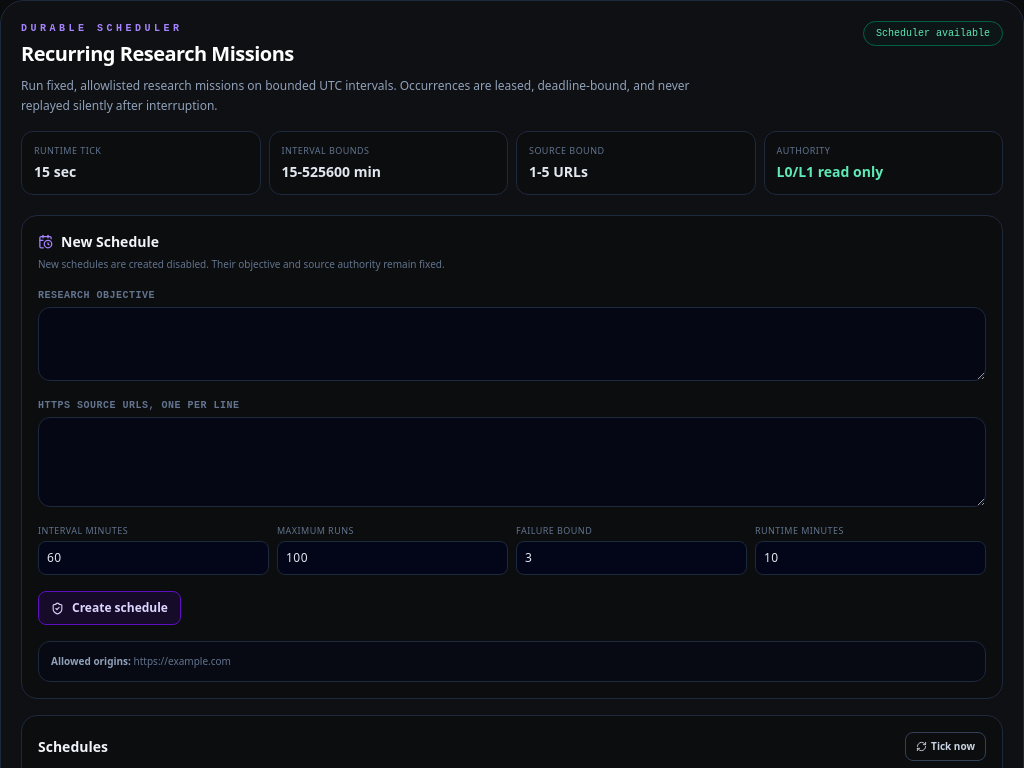
it: RecurringResearchPanel › renders server-backed empty state, validates source authority, and stores nothing locally
Type "Track evidence" into the text box named "Scheduled research objective" at coordinates (512, 344), box x1=38 y1=307 x2=986 y2=381
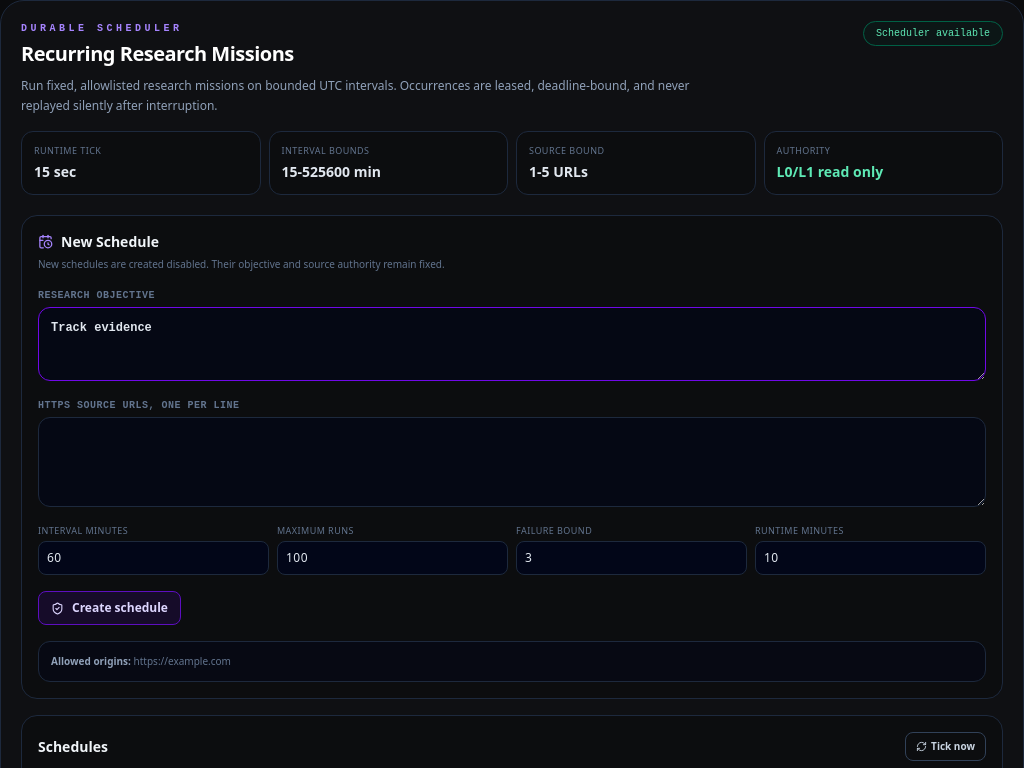
Type "https://outside.example/source" into the text box named "Scheduled HTTPS source URLs, one per line" at coordinates (512, 462), box x1=38 y1=417 x2=986 y2=507
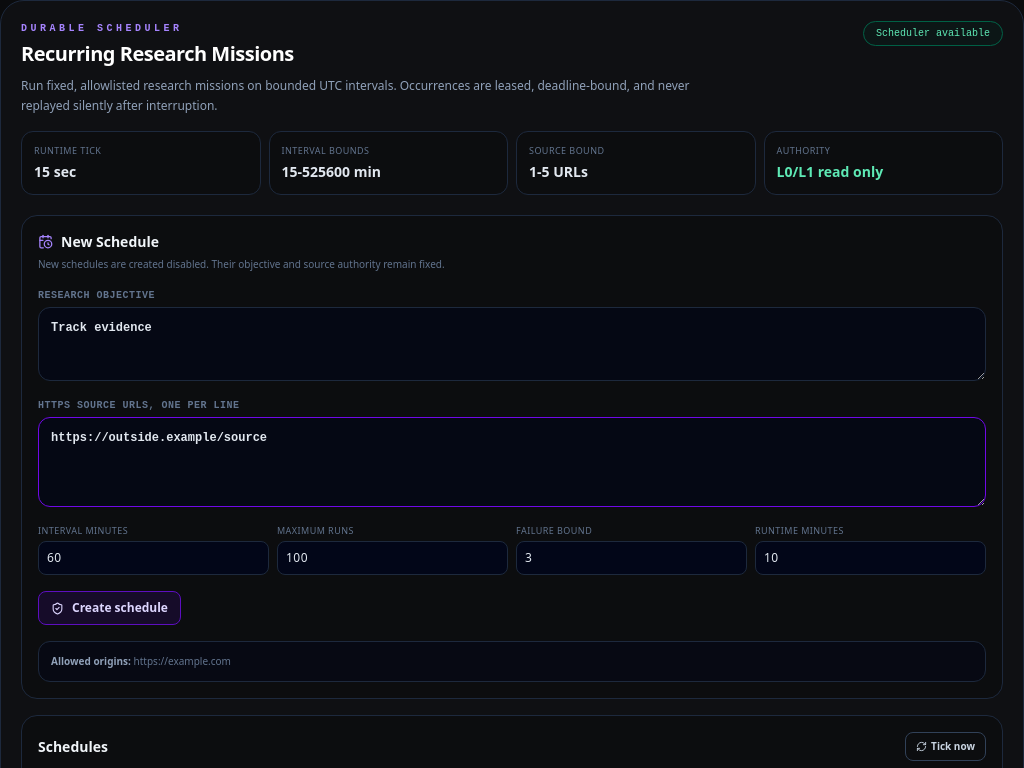
Click the button "Create schedule" at coordinates (110, 608), box x1=38 y1=591 x2=181 y2=625
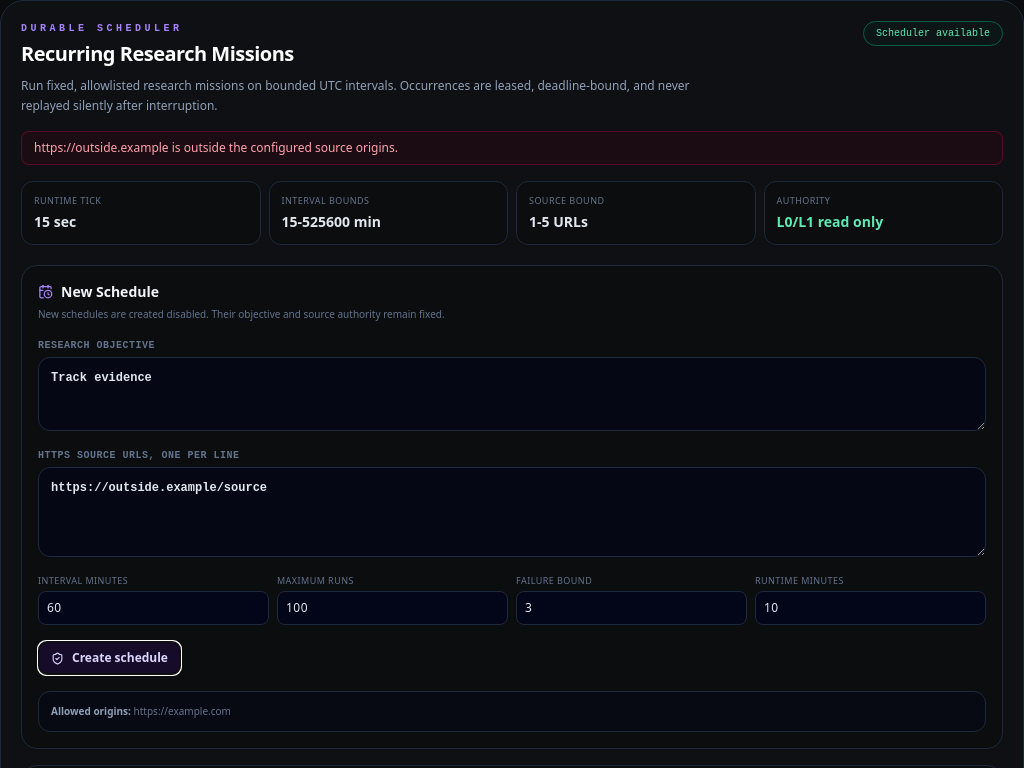
expect the message shows "outside the configured source origins": met, box x1=34 y1=139 x2=398 y2=156
